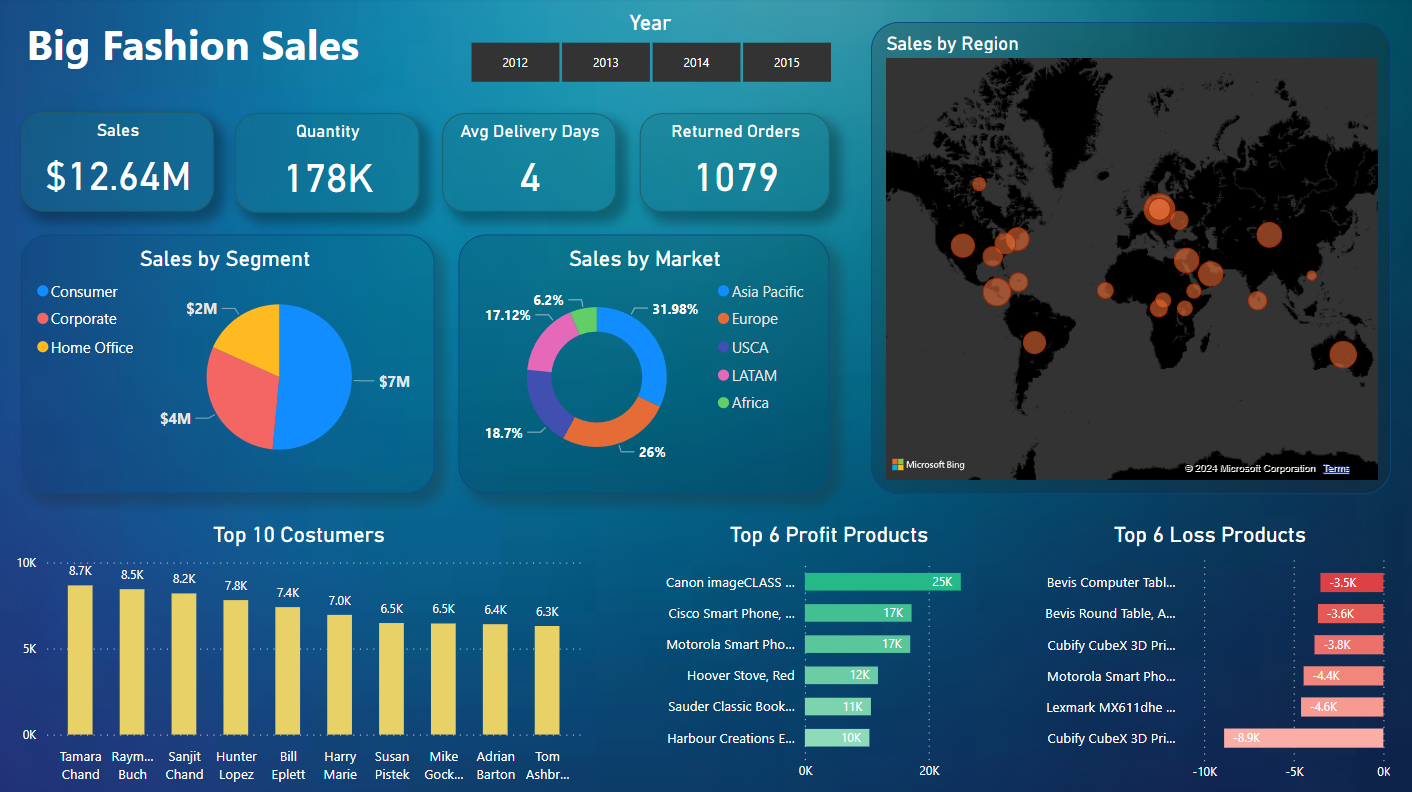

What the dashboard file says about the page in this screenshot:
{"tool":"powerbi","page":{"name":"Page 1","canvas":[1280,720],"ordinal":0},"visuals":[{"type":"card","title":"Sales","fields":{"Values":["Orders.Sales"]},"box":[22.1,103.3,173.3,89.5],"z":0},{"type":"card","title":"Quantity","fields":{"Values":["Orders.Quantity"]},"box":[215.1,104.5,166.3,89.5],"z":1000},{"type":"card","title":"Avg Delivery Days","fields":{"Values":["Orders.Delivery Days"]},"box":[402.4,105,156.5,88.4],"z":2000},{"type":"slicer","title":"Year","fields":{"Values":["Orders.Year"]},"box":[402.3,12.8,374.4,70.9],"z":3000},{"type":"card","title":"Returned Orders","fields":{"Values":["Returns.Returned Orders"]},"box":[580.2,105,171.1,88.4],"z":4000},{"type":"map","fields":{"Category":["Orders.Region"],"Size":["Orders.Sales"]},"box":[788.4,22.1,468.6,425.6],"z":5000},{"type":"clusteredBarChart","title":"Top 6 Profit Products","fields":{"Y":["Orders.Profit"],"Category":["Orders.Product Name"]},"box":[570.5,463.6,341.1,256.6],"z":6000},{"type":"clusteredBarChart","title":"Top 6 Loss Products","fields":{"Category":["Orders.Product Name"],"Y":["Orders.Profit"]},"box":[911.6,462.6,345,257.6],"z":7000},{"type":"clusteredColumnChart","title":"Top 10 Costumers","fields":{"Category":["Orders.Customer Name"],"Y":["Orders.Profit"]},"box":[17.5,462.6,529.7,257.6],"z":8000},{"type":"donutChart","fields":{"Category":["Orders.Market"],"Y":["Orders.Sales"]},"box":[416.9,214.3,334.3,233.4],"z":9000},{"type":"pieChart","fields":{"Category":["Orders.Segment"],"Y":["Orders.Sales"]},"box":[22.1,214,373.2,233.3],"z":10000},{"type":"textbox","box":[22.1,22.1,324.4,70.9],"z":11000}]}

Visuals, with their boxes in screenshot pixels (x1, y1, x2, y2), scaled from the page's 1280x720 canvas onto the 1412x792 screenshot:
"Sales" card: (24,114,216,212)
"Quantity" card: (237,115,421,213)
"Avg Delivery Days" card: (444,116,617,213)
"Year" slicer: (444,14,857,92)
"Returned Orders" card: (640,116,829,213)
map - Orders.Region x Orders.Sales: (870,24,1387,492)
"Top 6 Profit Products" clusteredBarChart: (629,510,1006,791)
"Top 6 Loss Products" clusteredBarChart: (1006,509,1386,791)
"Top 10 Costumers" clusteredColumnChart: (19,509,604,791)
donutChart - Orders.Market x Orders.Sales: (460,236,829,492)
pieChart - Orders.Segment x Orders.Sales: (24,235,436,492)
textbox: (24,24,382,102)
